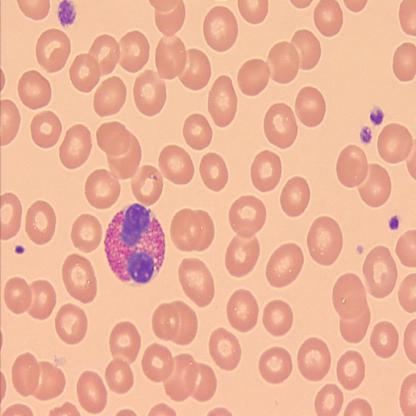Eosinophil: (104, 200, 168, 281)
